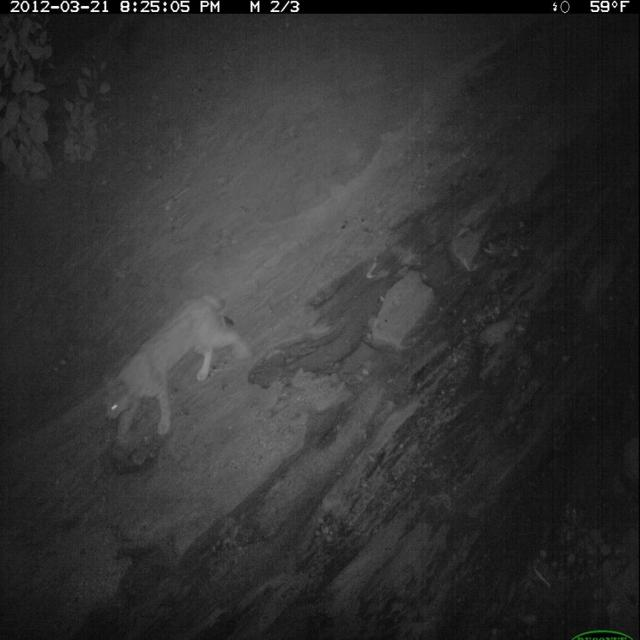bobcat: (102, 286, 255, 454)
